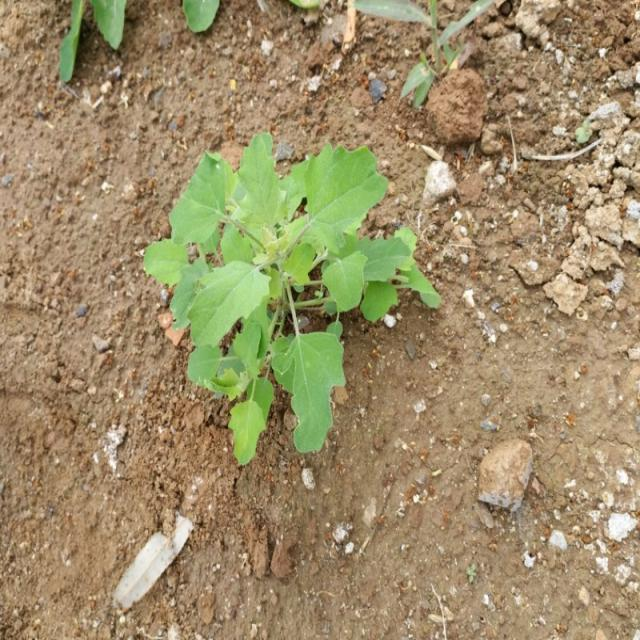ca: (168, 136, 441, 464)
